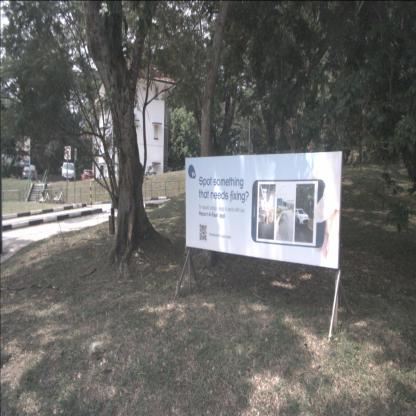vehicle-bicycle: (36, 187, 52, 205), (51, 186, 66, 204)
vehicle-car: (61, 161, 75, 182), (22, 165, 39, 180), (81, 169, 94, 182)
